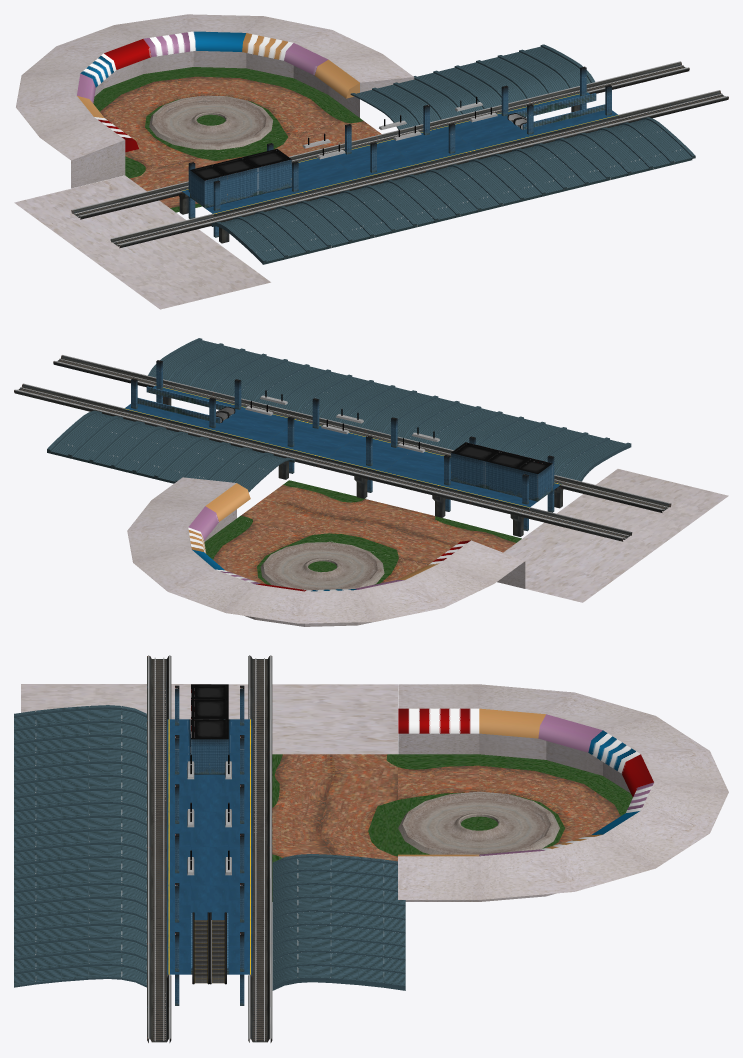
Rendered from mod_platform.fbx.
3 views of the same model, one above another, from view 1: azimuth 30°, elevation 25°; view 2: azimuth 150°, elevation 25°; view 3: azimuth 270°, elevation 25° (orthographic). The views are drawn at different scales.
Parts seen in each view (by area): view 1: polySurface1305, polySurface21, polySurface35, polySurface37, polySurface10, polySurface1238, polySurface630, polySurface631, polySurface1291; view 2: polySurface1305, polySurface21, polySurface35, polySurface10, polySurface37, polySurface1238, polySurface630, polySurface631, polySurface1291; view 3: polySurface1305, polySurface21, polySurface35, polySurface10, polySurface37, polySurface631, polySurface1238, polySurface630, polySurface1289, polySurface1290, polySurface1291.
Boxes of the visible parts, box(x1,y1,x2,y2) form: polySurface1305: box(14, 14, 414, 309); polySurface21: box(211, 117, 695, 264); polySurface35: box(181, 92, 619, 214); polySurface37: box(71, 61, 728, 248); polySurface10: box(350, 44, 595, 129); polySurface1238: box(188, 66, 611, 237); polySurface630: box(74, 65, 725, 245); polySurface631: box(77, 66, 721, 243); polySurface1291: box(302, 96, 497, 159); polySurface1305: box(127, 469, 728, 626); polySurface21: box(148, 338, 631, 481); polySurface35: box(123, 385, 561, 507); polySurface10: box(47, 410, 294, 492); polySurface37: box(14, 355, 671, 541); polySurface1238: box(131, 360, 554, 531); polySurface630: box(17, 358, 668, 538); polySurface631: box(21, 360, 665, 537); polySurface1291: box(245, 390, 439, 452); polySurface1305: box(21, 684, 728, 901); polySurface21: box(14, 705, 146, 987); polySurface35: box(167, 684, 252, 974); polySurface10: box(272, 854, 405, 990); polySurface37: box(147, 655, 272, 1042); polySurface631: box(152, 660, 266, 1040); polySurface1238: box(175, 685, 244, 1005); polySurface630: box(154, 657, 264, 1041); polySurface1289: box(192, 912, 209, 984); polySurface1290: box(209, 912, 226, 984); polySurface1291: box(187, 754, 231, 875).
Bounding box in the file's own units: 195 × 17.18 × 152.
Materials: 2 (1 with a texture image).
